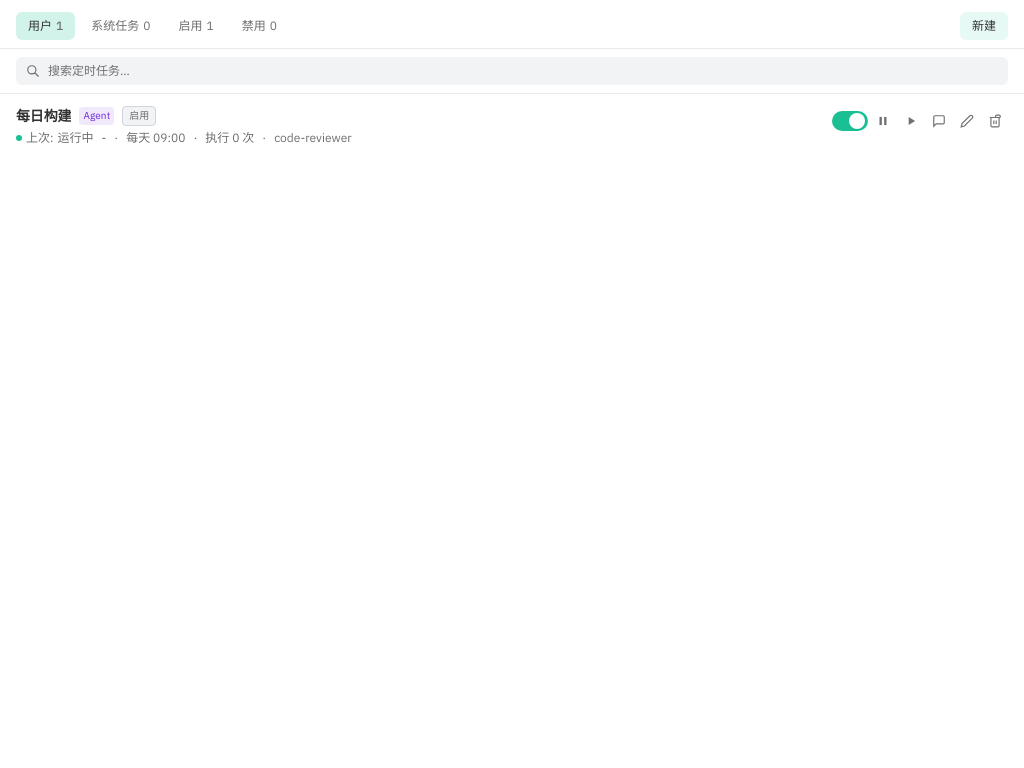
暂停 / 恢复 / 立即执行 / 停止 —— 失败回声与可播报 › 停止失败：原因可读且可被读屏播报（按钮名实相符，走 store.stop）
Click the button named "立即执行": (911, 121) [898,108,924,134]
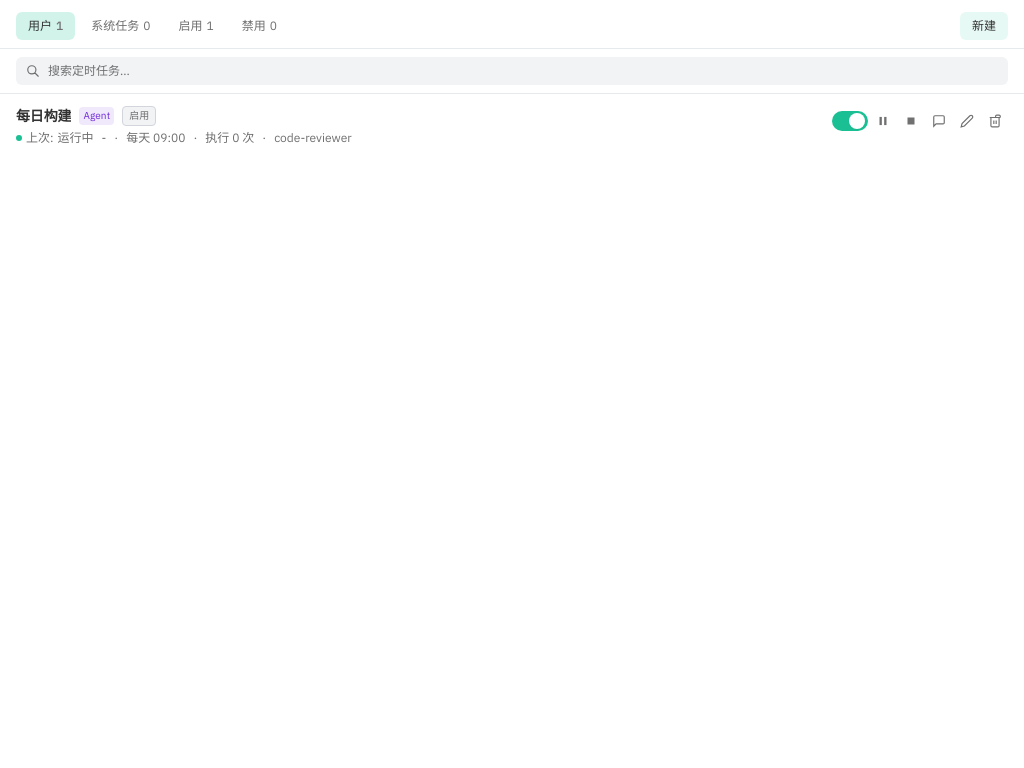
Click the button named "停止": (911, 121) [898,108,924,134]
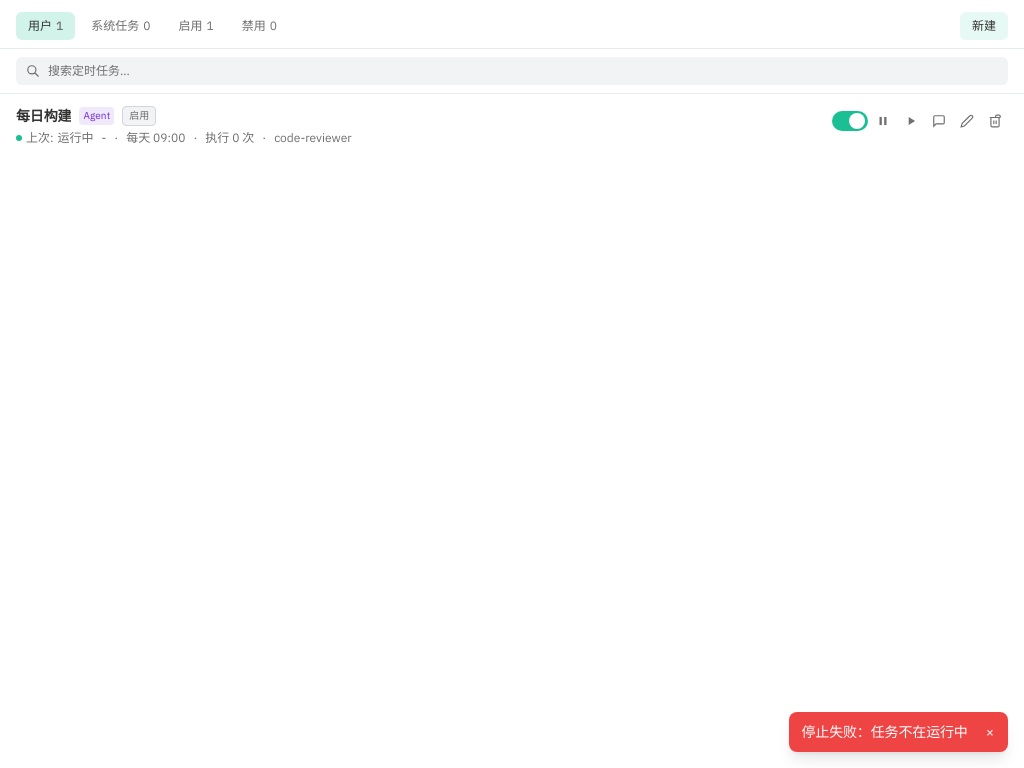
Now the message shows "停止失败", box [801,723,968,741]
Now the message shows "任务不在运行中", box [801,723,968,741]
